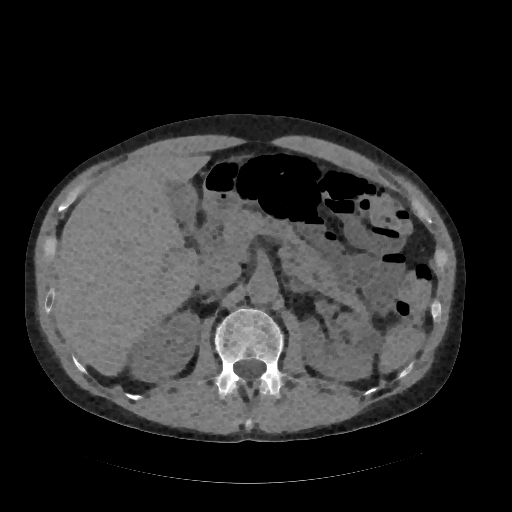Lesion: (354, 322, 386, 356)
